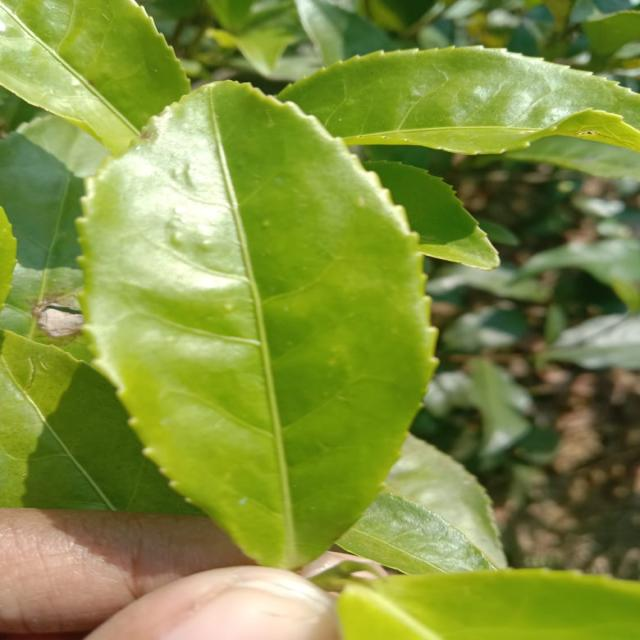Category B 2-4 days: (70, 67, 459, 592)
